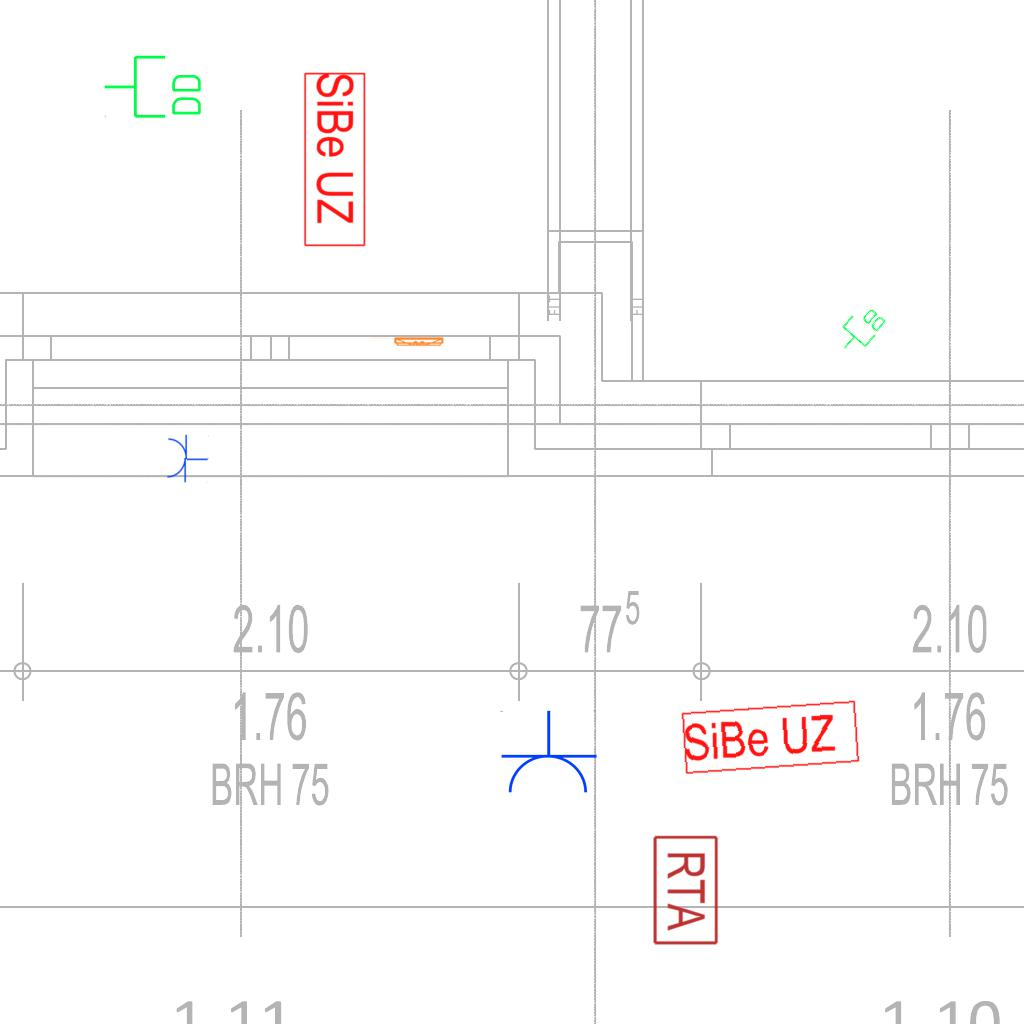Datenanschluss_zweifach: (102, 53, 205, 122), (830, 299, 891, 361)
Ruf-und_Abstelltaster: (651, 832, 720, 946)
Schukosteckdose_einfach: (498, 710, 598, 797), (164, 432, 210, 485)
Sicherheitsleuchte_Wandeinbau: (367, 336, 446, 348)
Zentrale_Sicherheitsbeleuchtung: (679, 698, 863, 777), (302, 71, 367, 249)
